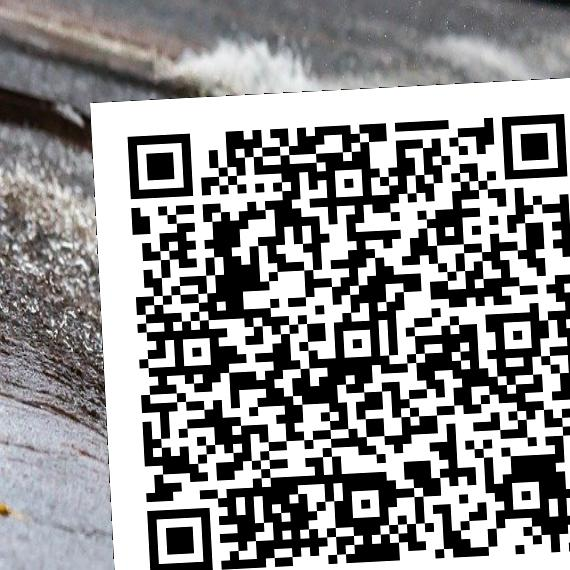qr_code: (90, 84, 569, 563)
